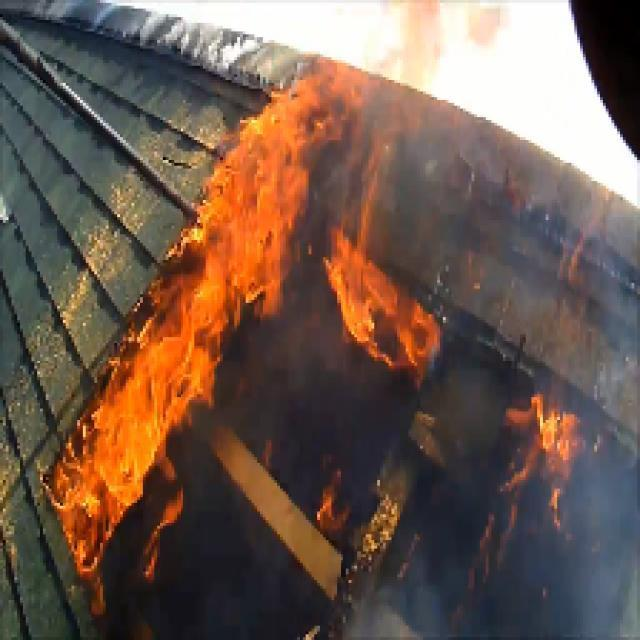Fire: (208, 124, 342, 382), (68, 396, 164, 534)
